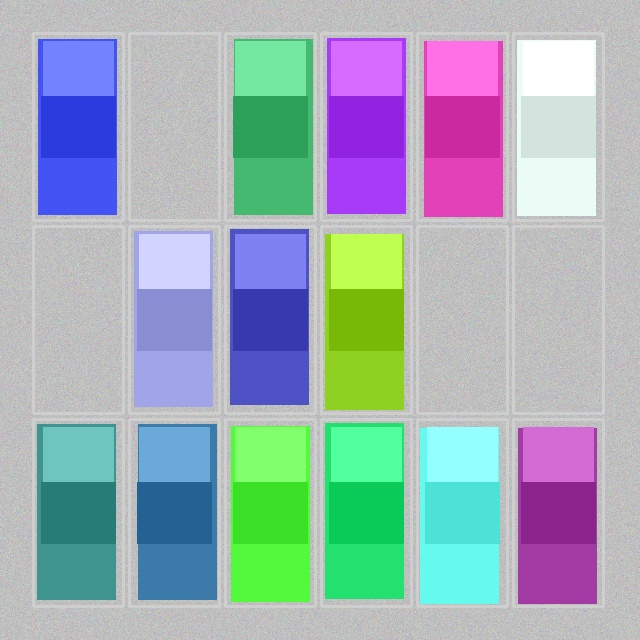space-empty: (131, 35, 217, 218), (35, 228, 121, 411), (419, 228, 505, 411), (515, 228, 601, 411)
space-occupied: (35, 35, 121, 218), (227, 35, 313, 218), (323, 35, 409, 218), (419, 35, 505, 218), (515, 35, 601, 218), (131, 228, 217, 411), (227, 228, 313, 411), (323, 228, 409, 411), (35, 421, 121, 604), (131, 421, 217, 604), (227, 421, 313, 604), (323, 421, 409, 604), (419, 421, 505, 604), (515, 421, 601, 604)
